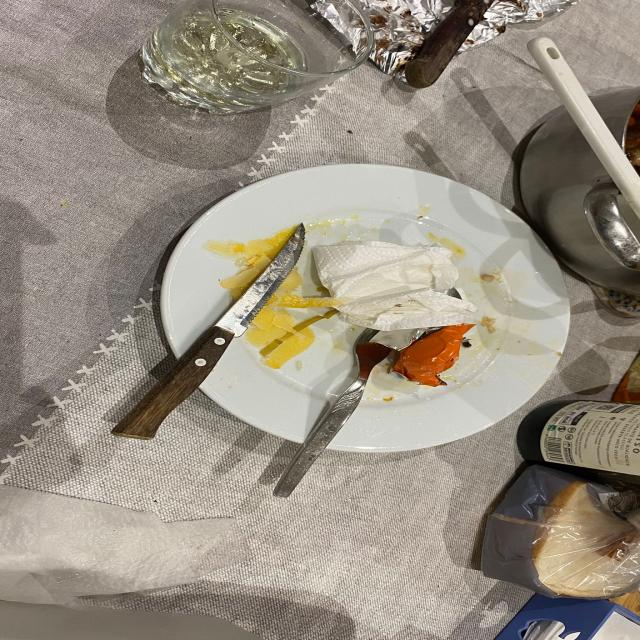cup: (141, 0, 373, 114)
fork: (273, 330, 389, 497)
garbage: (313, 241, 476, 331), (246, 269, 339, 369), (208, 230, 291, 300), (392, 324, 473, 387)
knife: (113, 223, 305, 439)
plate: (161, 164, 569, 452), (201, 308, 362, 443)
